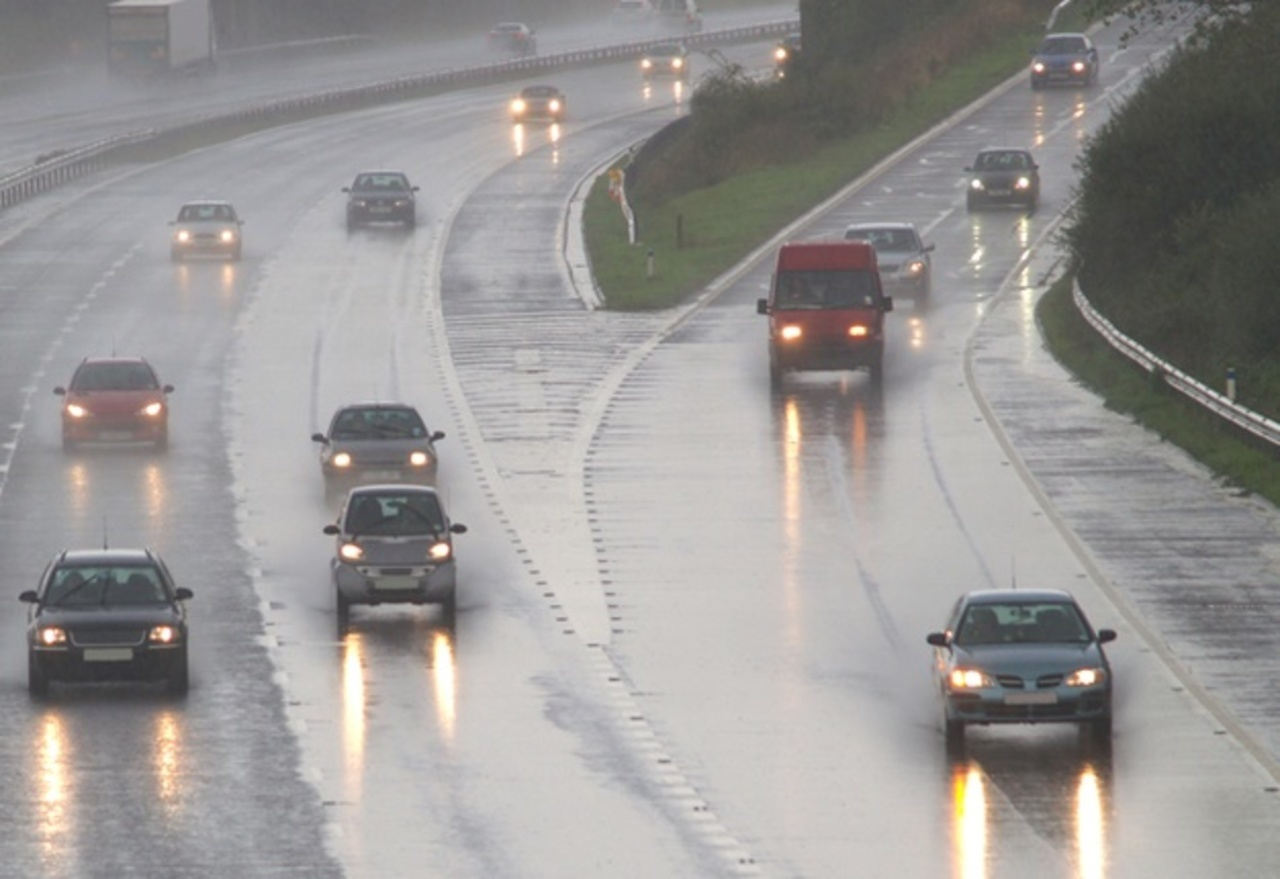car: (929, 587, 1114, 750), (23, 546, 196, 700), (327, 483, 459, 621), (760, 241, 884, 378), (55, 356, 174, 453), (321, 403, 441, 496), (849, 220, 929, 300), (963, 147, 1040, 214), (166, 200, 245, 263), (341, 170, 419, 232), (1028, 33, 1098, 90), (508, 81, 565, 122), (481, 20, 539, 54), (637, 44, 690, 81), (771, 30, 800, 65)
